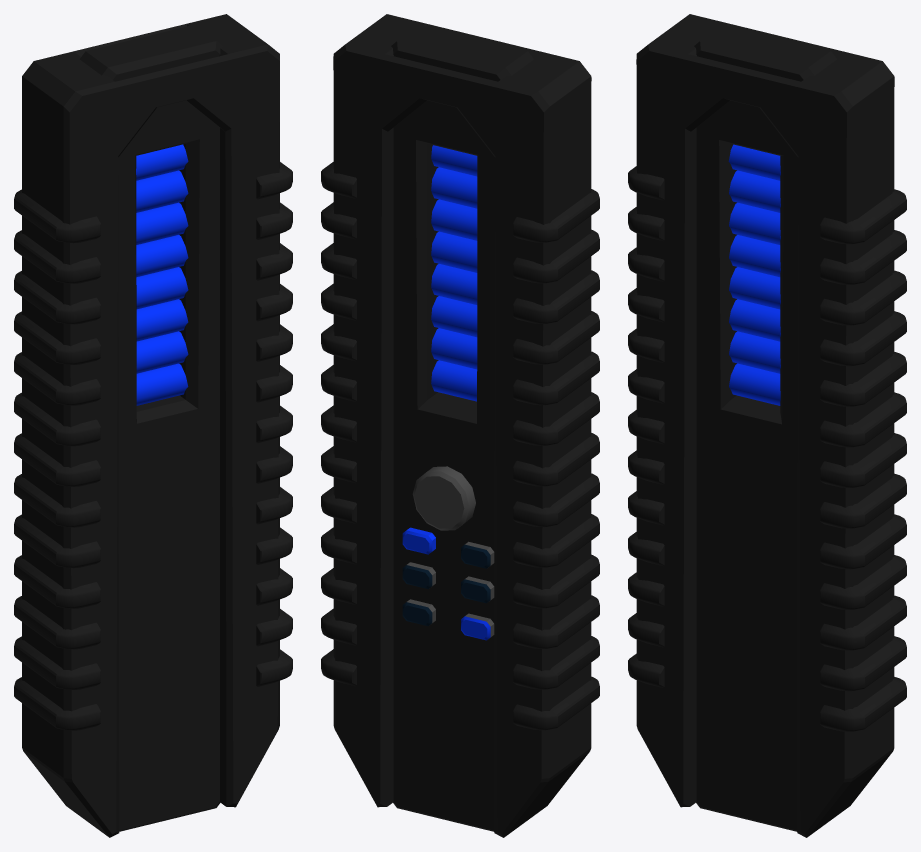
File: Magazine_01.FBX
The picture shows the model from 3 angles, left to right: view 1: azimuth 30°, elevation 25°; view 2: azimuth 150°, elevation 25°; view 3: azimuth 330°, elevation 25°; orthographic projection.
Parts seen in each view (by area): view 1: Magazine_Body, Magazine, Box019, Box023, Box033, Box029, Box031, Box017, Box013, Box027, Box011, Box021 (+24 smaller); view 2: Magazine_Body, Magazine, Cylinder009, Box029, Box025, Box019, Box013, Box023, Box033, Box017, Box021, Box031 (+31 smaller); view 3: Magazine_Body, Magazine, Box026, Box030, Box016, Box020, Box032, Box010, Box022, Box014, Box024, Box034 (+24 smaller).
Boxes of the visible parts, bbox=[...] form: Magazine_Body: bbox=[22, 14, 279, 837]; Magazine: bbox=[79, 25, 222, 831]; Box019: bbox=[14, 392, 100, 446]; Box023: bbox=[14, 474, 100, 527]; Box033: bbox=[14, 677, 100, 730]; Box029: bbox=[14, 596, 100, 649]; Box031: bbox=[14, 636, 100, 689]; Box017: bbox=[14, 352, 100, 405]; Box013: bbox=[14, 271, 100, 324]; Box027: bbox=[14, 555, 100, 608]; Box011: bbox=[14, 230, 100, 283]; Box021: bbox=[14, 433, 100, 486]; Magazine_Body: bbox=[333, 14, 591, 837]; Magazine: bbox=[391, 24, 533, 831]; Cylinder009: bbox=[412, 466, 475, 530]; Box029: bbox=[513, 595, 599, 648]; Box025: bbox=[513, 514, 599, 567]; Box019: bbox=[513, 392, 599, 445]; Box013: bbox=[513, 270, 599, 323]; Box023: bbox=[513, 473, 599, 527]; Box033: bbox=[513, 676, 599, 730]; Box017: bbox=[513, 351, 599, 405]; Box021: bbox=[513, 433, 599, 486]; Box031: bbox=[513, 636, 599, 689]; Magazine_Body: bbox=[636, 14, 894, 837]; Magazine: bbox=[694, 24, 836, 831]; Box026: bbox=[820, 514, 906, 569]; Box030: bbox=[820, 595, 906, 650]; Box016: bbox=[820, 311, 906, 366]; Box020: bbox=[820, 392, 906, 447]; Box032: bbox=[820, 636, 906, 691]; Box010: bbox=[820, 189, 906, 244]; Box022: bbox=[820, 433, 906, 488]; Box014: bbox=[820, 270, 906, 325]; Box024: bbox=[820, 473, 906, 528]; Box034: bbox=[820, 677, 906, 731].
Bounding box in the file's own units: 3.59 × 11.11 × 1.45.
